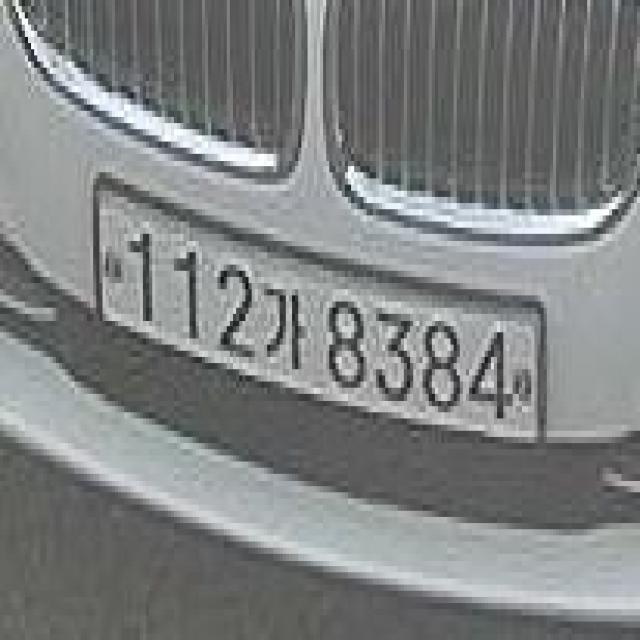illegal_plate: (86, 185, 548, 477)
